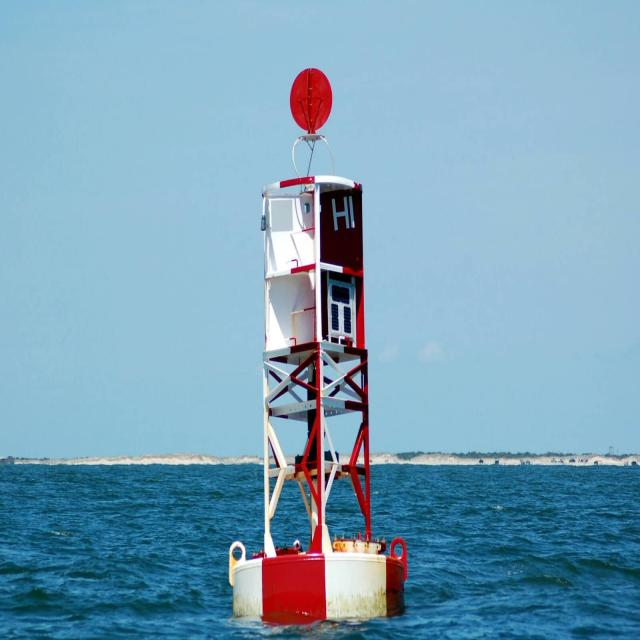2.4 safe water mark: (215, 21, 425, 631)
